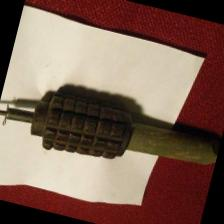POMZ2: (0, 58, 224, 199)
